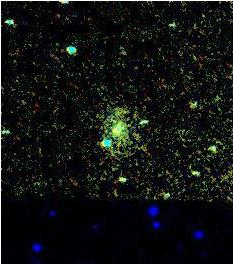star: (101, 112, 131, 142)
